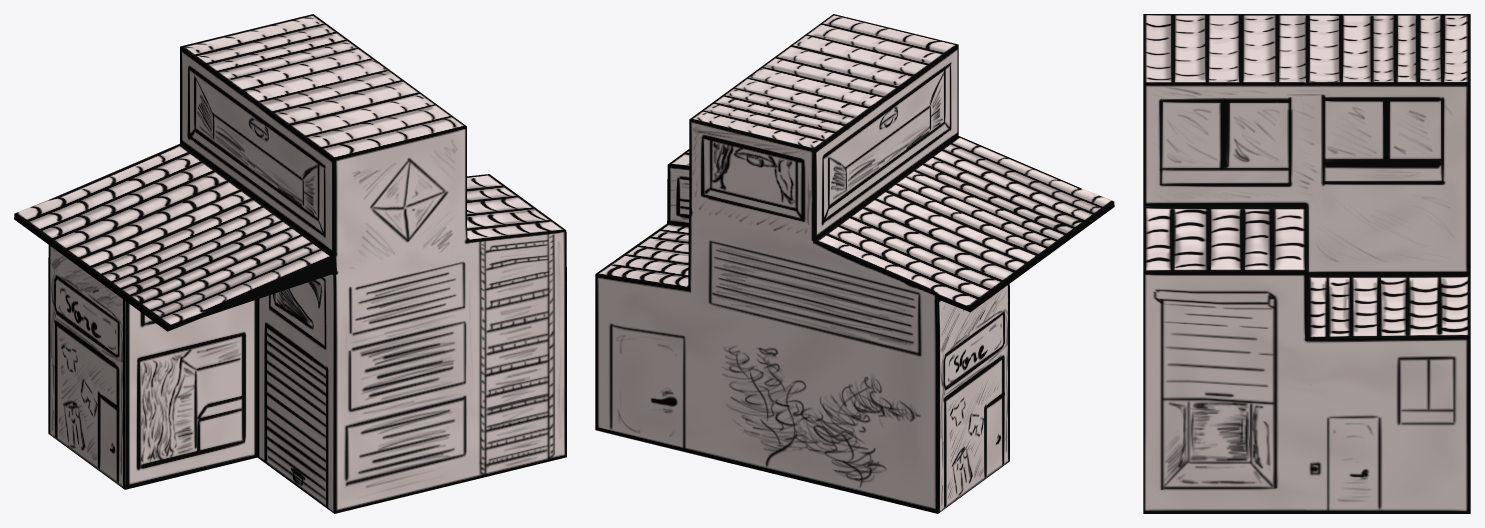
The model's file is maison 2 coté.fbx.
The picture shows the model from 3 angles, left to right: view 1: azimuth 30°, elevation 25°; view 2: azimuth 150°, elevation 25°; view 3: azimuth 270°, elevation 25°; orthographic projection. The views are drawn at different scales.
Parts seen in each view (by area): view 1: maison 2 coté 1; view 2: maison 2 coté 1; view 3: maison 2 coté 1.
Part boxes in pixels (<box>): maison 2 coté 1: <box>14,14,566,513</box>; maison 2 coté 1: <box>595,14,1114,513</box>; maison 2 coté 1: <box>1143,14,1470,513</box>.
Bounding box in the file's own units: 978 × 831 × 651.
